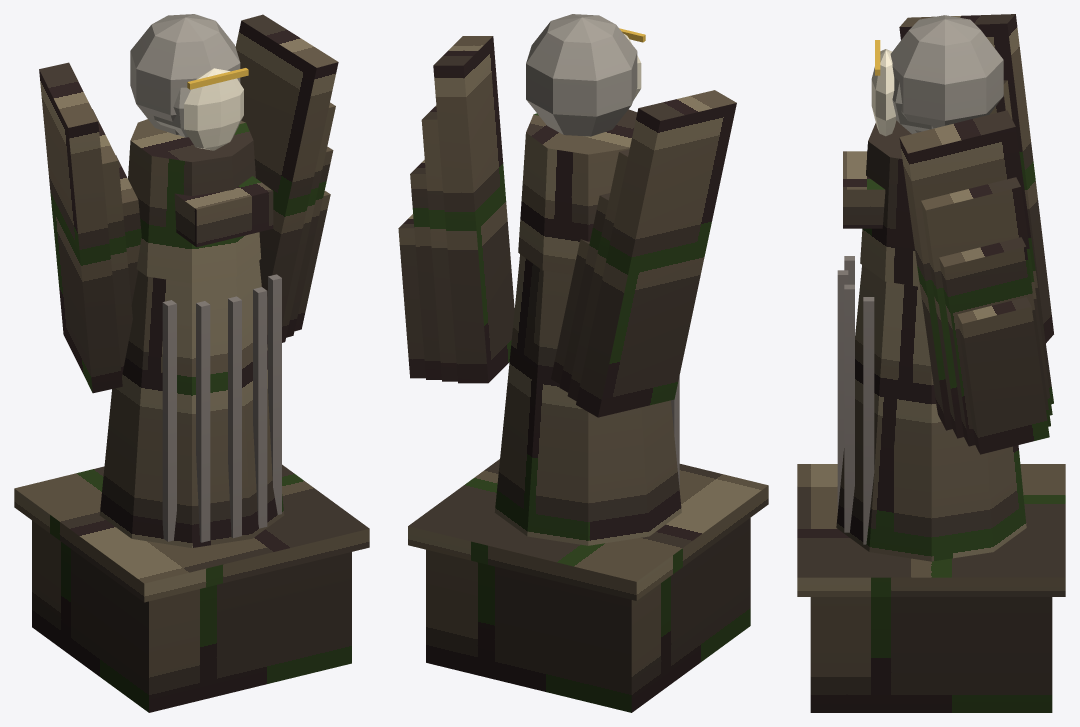
The model's file is faceless_statue.glb.
The picture shows the model from 3 angles, left to right: view 1: azimuth 30°, elevation 25°; view 2: azimuth 150°, elevation 25°; view 3: azimuth 270°, elevation 25°; orthographic projection. The views are drawn at different scales.
Visible parts, largest first — view 1: faceless_statue; view 2: faceless_statue; view 3: faceless_statue.
Boxes of the visible parts, <box> form: faceless_statue: <box>14,14,369,712</box>; faceless_statue: <box>398,14,768,712</box>; faceless_statue: <box>797,14,1065,712</box>.
Bounding box in the file's own units: 1.28 × 2.64 × 1.
2 materials, 1 textured.
